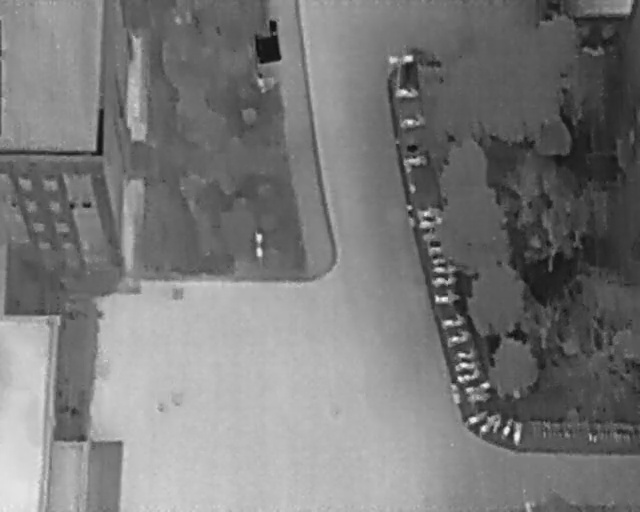Bicycle: (464, 407, 491, 427), (446, 328, 473, 347), (463, 380, 490, 397), (500, 414, 515, 443), (454, 357, 481, 373), (488, 414, 507, 435), (399, 114, 425, 129), (454, 345, 478, 361), (510, 419, 523, 448), (441, 314, 466, 329), (457, 370, 479, 384), (434, 292, 460, 303), (433, 276, 457, 287), (403, 156, 428, 166), (434, 265, 459, 274), (394, 87, 417, 96)
